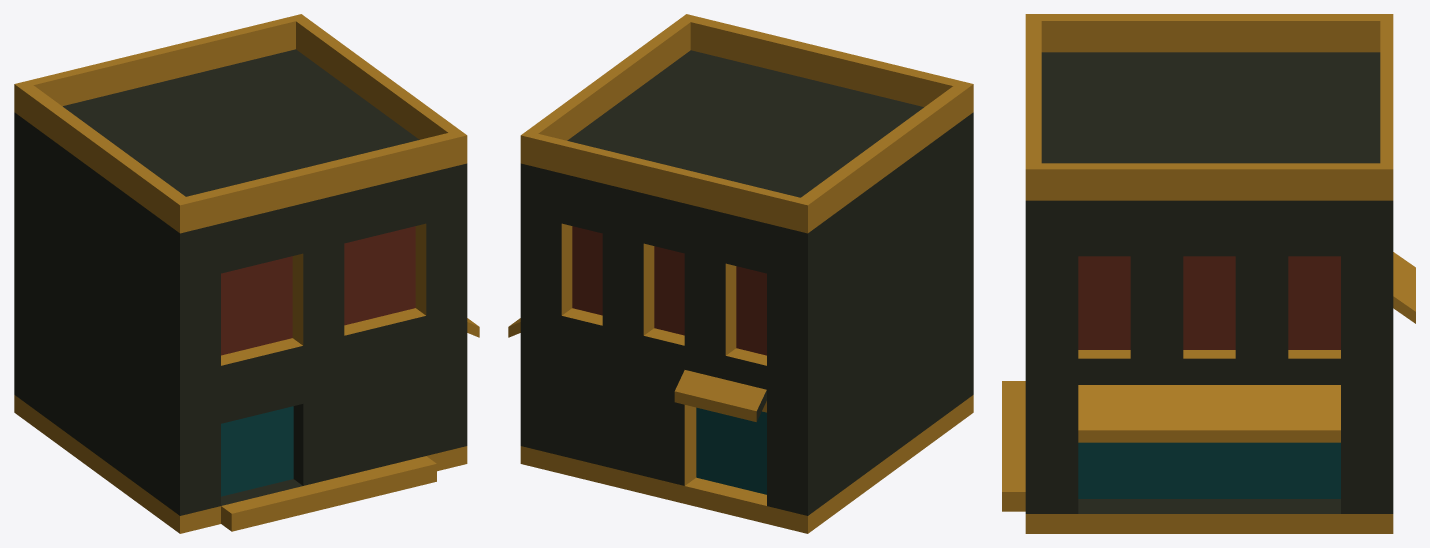
The model's file is casa275.fbx.
3 renders of one model, left to right at view 1: azimuth 30°, elevation 25°; view 2: azimuth 150°, elevation 25°; view 3: azimuth 270°, elevation 25°, orthographic. The views are drawn at different scales.
Parts seen in each view (by area): view 1: Cube; view 2: Cube; view 3: Cube.
Boxes of the visible parts, bbox=[...] form: Cube: bbox=[14, 14, 479, 533]; Cube: bbox=[508, 14, 973, 533]; Cube: bbox=[1002, 14, 1415, 533].
Bounding box in the file's own units: 225 × 219 × 225.
Materials: 1 (1 with a texture image).
